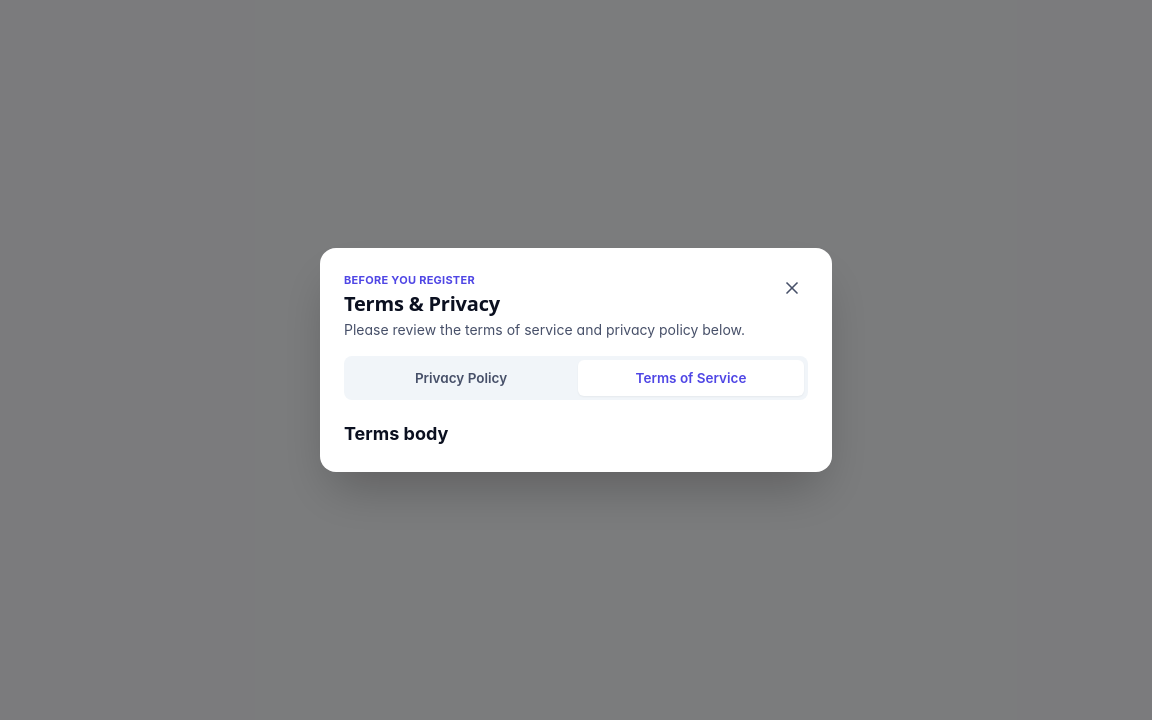
it: <ConsentModal /> › switches tabs on click
Click the tab "Privacy Policy". click: (461, 378)
box: 348,360 -> 574,396
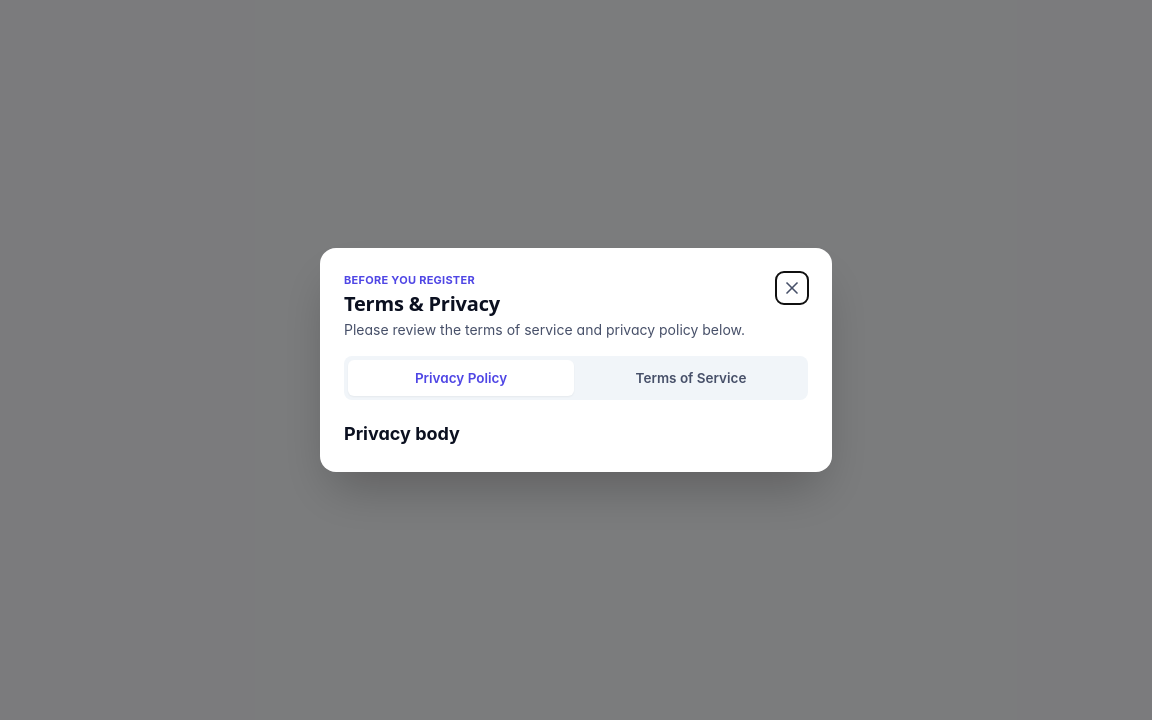
expect the heading "Privacy body" is shown: met, box 344,423 -> 460,444
